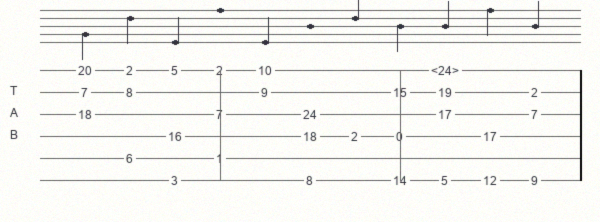0: (396, 130, 407, 143)
1: (216, 152, 227, 165)
10: (258, 64, 276, 77)
12: (483, 174, 501, 187)
14: (393, 174, 411, 187)
15: (393, 86, 411, 99)
16: (168, 130, 186, 143)
17: (438, 108, 456, 121), (483, 130, 501, 143)
18: (78, 108, 96, 121), (303, 130, 321, 143)
19: (438, 86, 456, 99)
2: (126, 64, 137, 77), (216, 64, 227, 77), (351, 130, 362, 143), (531, 86, 542, 99)
20: (78, 64, 96, 77)
24: (303, 108, 321, 121)
3: (171, 174, 182, 187)
5: (171, 64, 182, 77), (441, 174, 452, 187)
6: (126, 152, 137, 165)
7: (81, 86, 92, 99), (216, 108, 227, 121), (531, 108, 542, 121)
8: (126, 86, 137, 99), (306, 174, 317, 187)
9: (261, 86, 272, 99), (531, 174, 542, 187)
harmonic: (431, 64, 463, 77)
